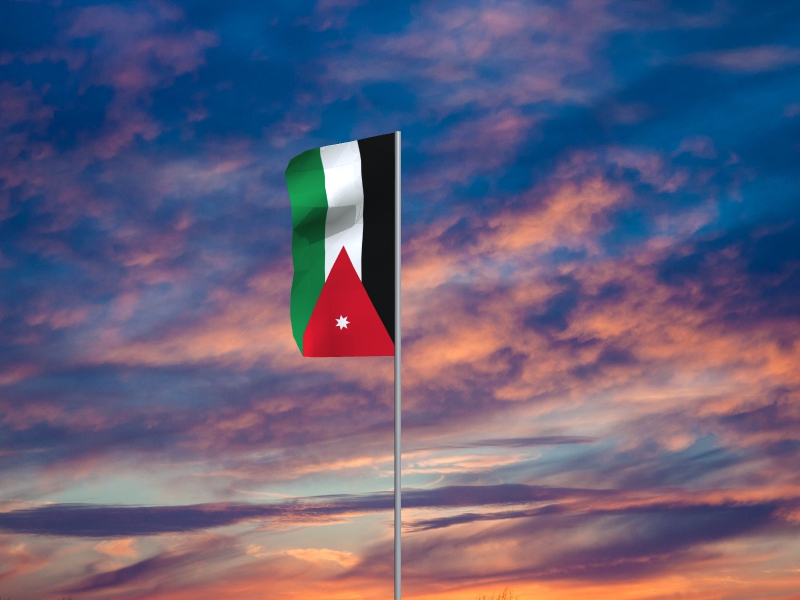jo: (284, 134, 395, 359)
